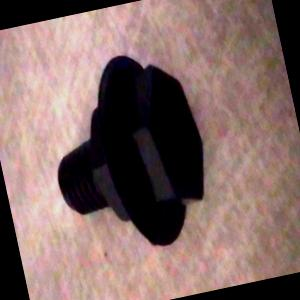parafuso: (33, 39, 222, 266)
